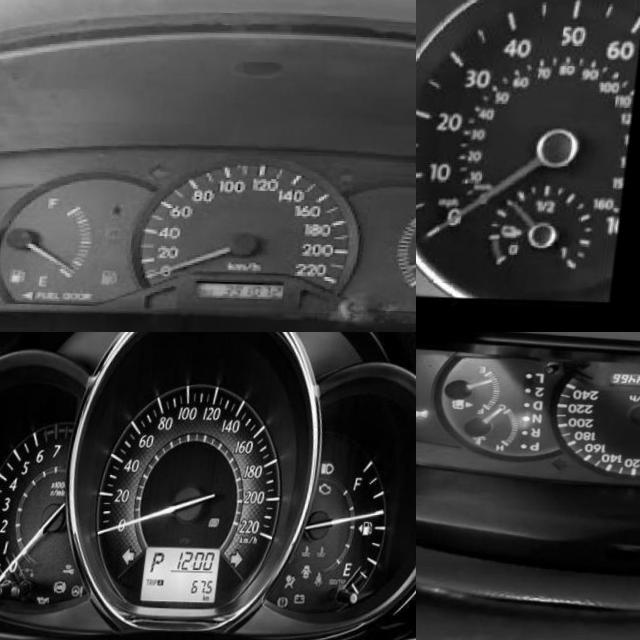Electronic Power Steering: (84, 583, 95, 596)
High Engine Coolant Temperature: (312, 543, 322, 554)
Seat Belt: (324, 569, 336, 584)
